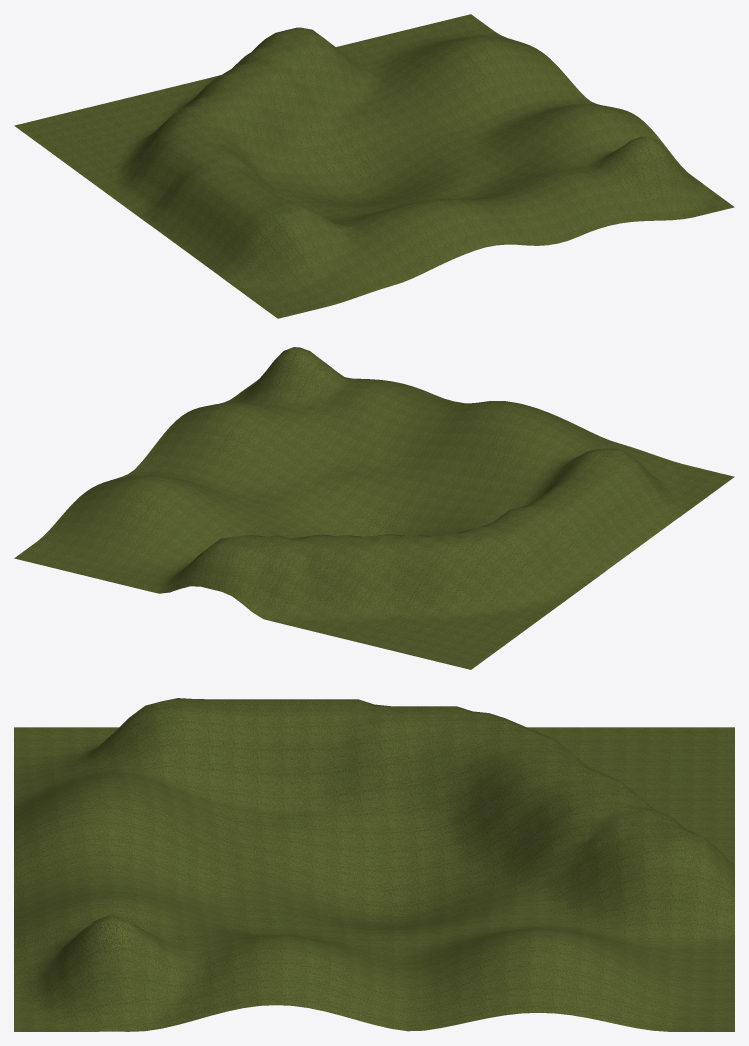
Rendered from test_terrain.dae.
3 views of the same model, one above another, from view 1: azimuth 30°, elevation 25°; view 2: azimuth 150°, elevation 25°; view 3: azimuth 270°, elevation 25° (orthographic). The views are drawn at different scales.
Parts seen in each view (by area): view 1: Plane; view 2: Plane; view 3: Plane.
Boxes of the visible parts, x1=… form: Plane: x1=14, y1=14, x2=734, y2=318; Plane: x1=14, y1=347, x2=734, y2=669; Plane: x1=14, y1=698, x2=734, y2=1031.
Bounding box in the file's own units: 20 × 20 × 3.62.
Materials: 1 (1 with a texture image).
